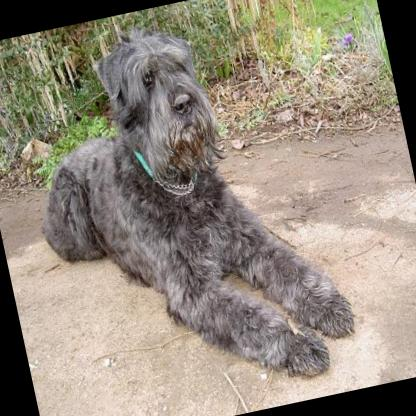Bouvier_des_Flandres: (1, 0, 365, 416)
